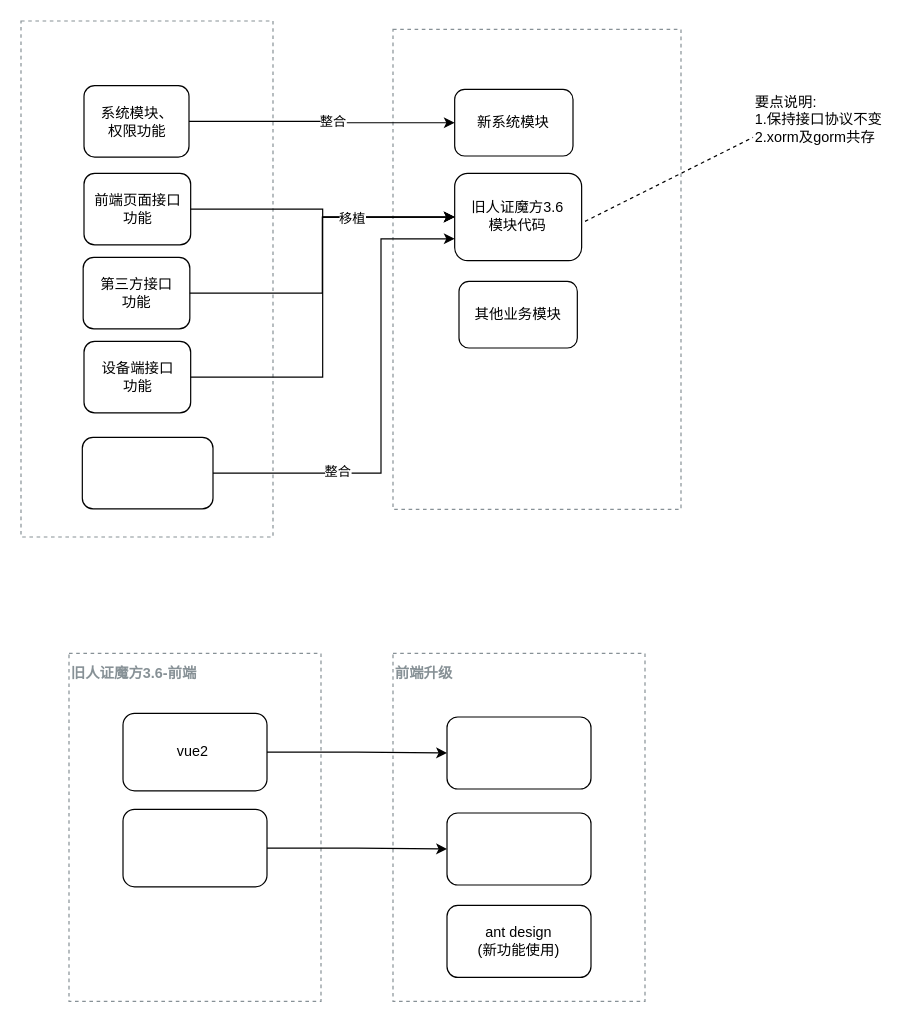
Image size: 906x1022. Some labels were removed from this diagram. The shapes that lost their labels are listed below. From the top down, each one's box as (x1, y1, x2, y2) in pixels, then its label:
(20, 20, 273, 537): 旧人证魔方3.6-后端
(392, 28, 681, 509): zk-demo
(81, 436, 213, 509): 系统初始化、 token及会话机制、 db初始化方式等
(446, 716, 591, 789): vue3
(122, 808, 267, 887): element UI
(446, 812, 591, 885): element UI 旧业务模块适配
